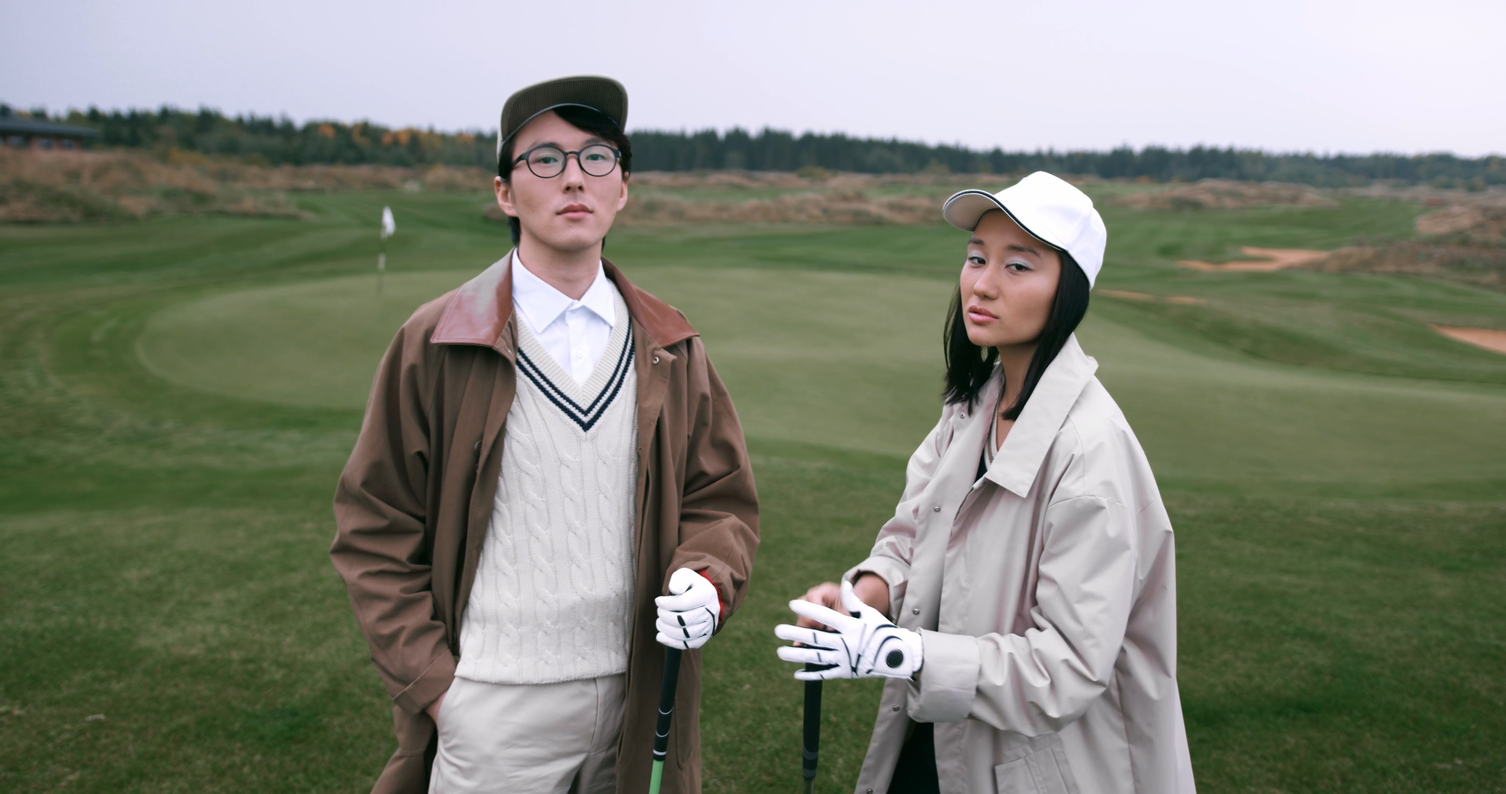gloves: (768, 579, 941, 704), (638, 555, 740, 678)
